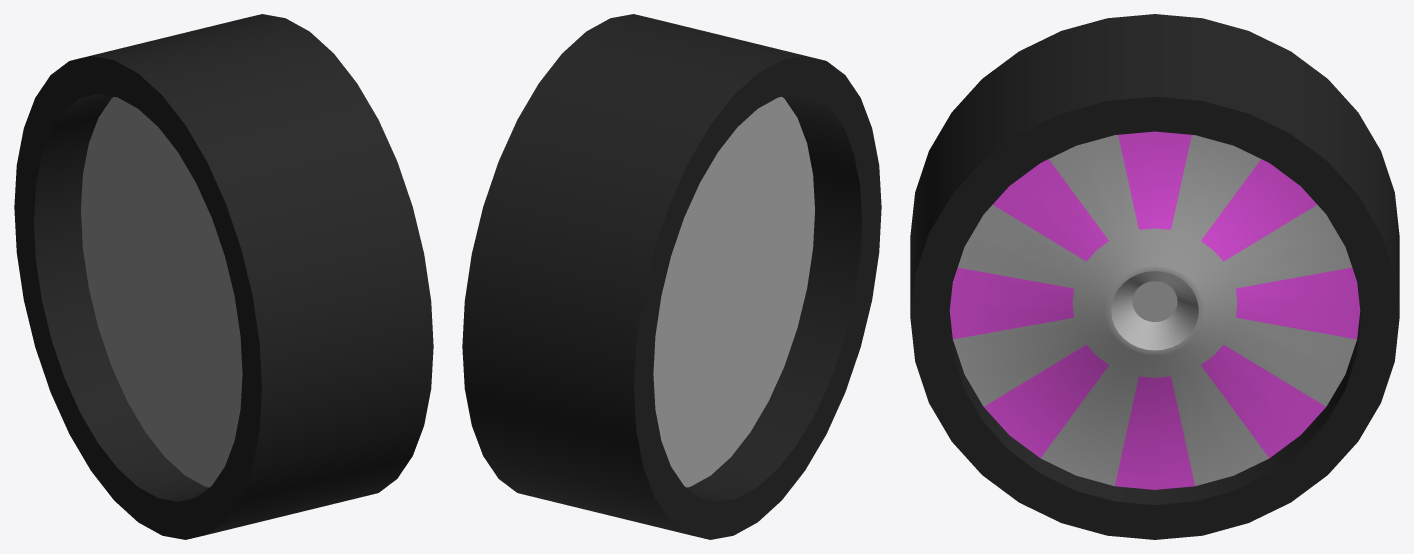
File: test_wheel.glb
The picture shows the model from 3 angles, left to right: view 1: azimuth 30°, elevation 25°; view 2: azimuth 150°, elevation 25°; view 3: azimuth 270°, elevation 25°; orthographic projection.
Parts seen in each view (by area): view 1: Cylinder; view 2: Cylinder; view 3: Cylinder.
Boxes of the visible parts, x1,y1,x2,y2 form: Cylinder: (14, 14, 433, 539); Cylinder: (462, 14, 881, 539); Cylinder: (910, 14, 1399, 539).
Bounding box in the file's own units: 0.8 × 2 × 2.
